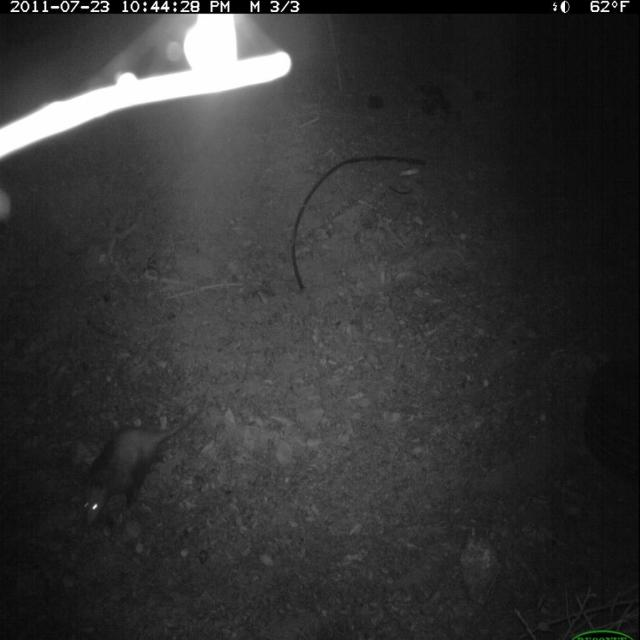opossum: (78, 406, 205, 531)
